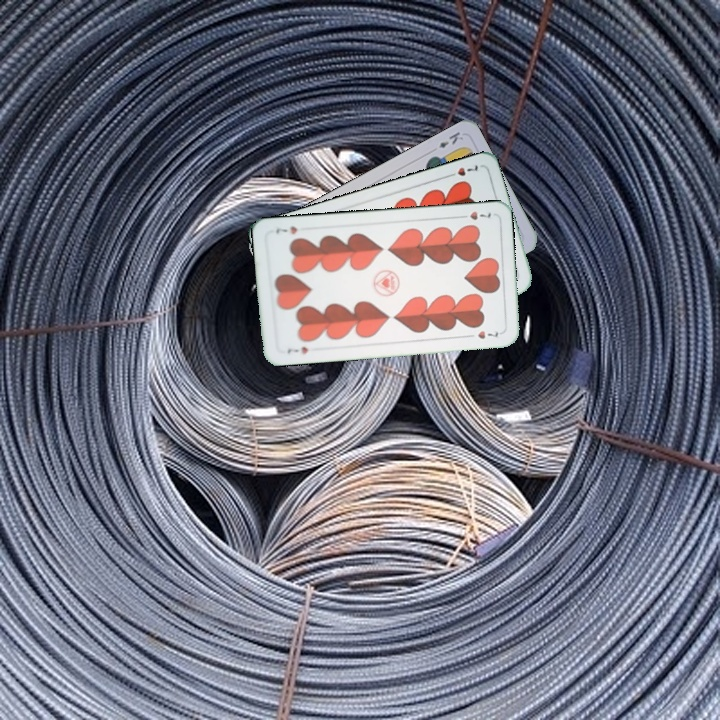EK: (434, 127, 466, 151)
H7: (443, 161, 482, 180), (455, 207, 494, 223), (283, 343, 311, 357)
